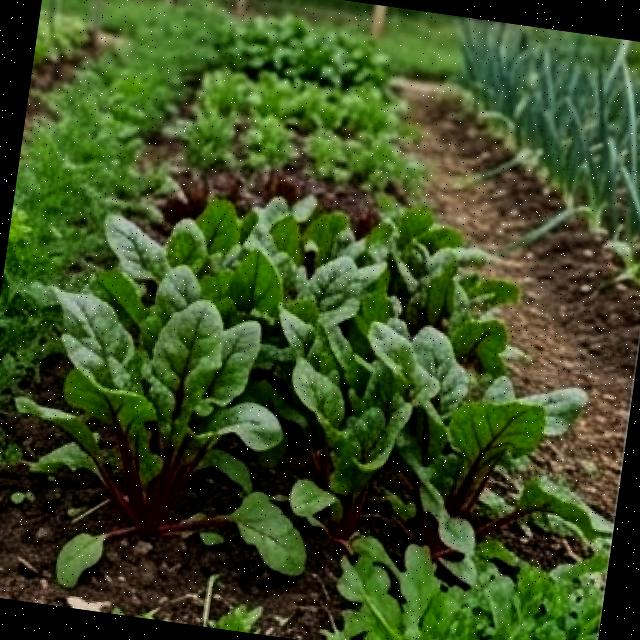spinach: (0, 139, 589, 593)
